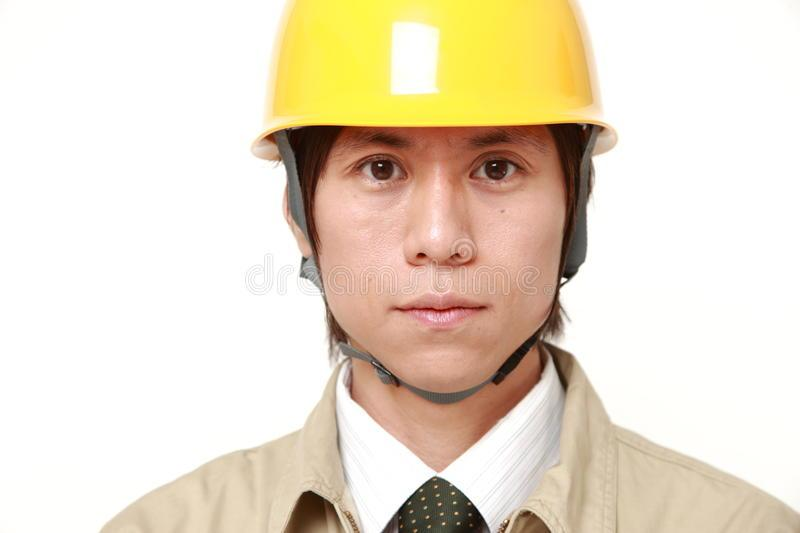helmet: (242, 1, 617, 159)
